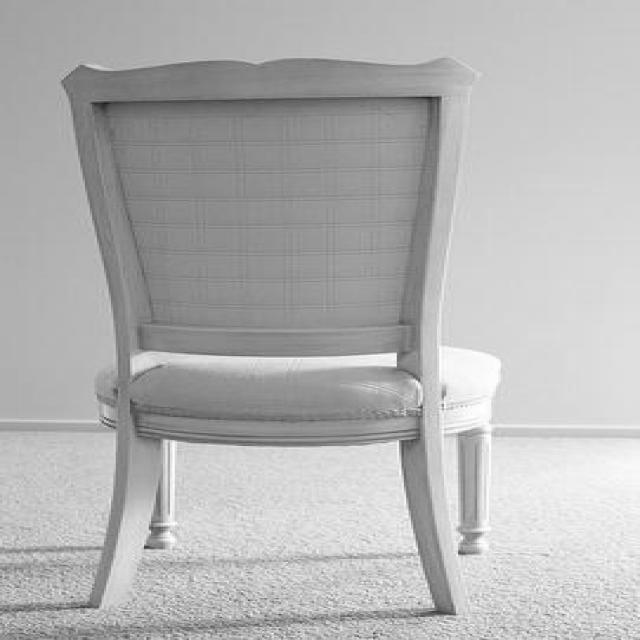chair: (59, 52, 498, 620)
